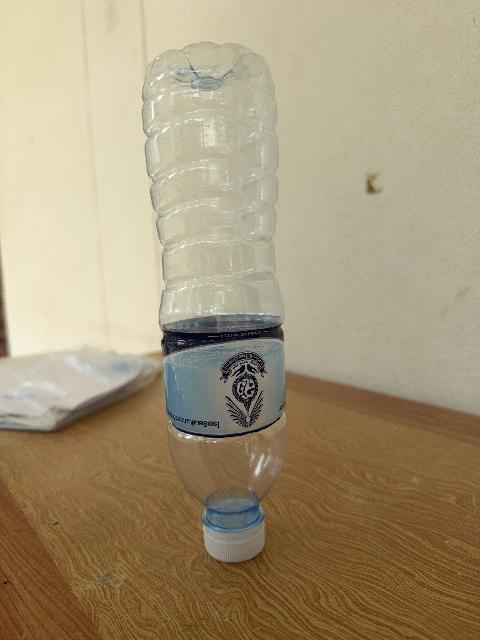bottle: (143, 43, 287, 561)
